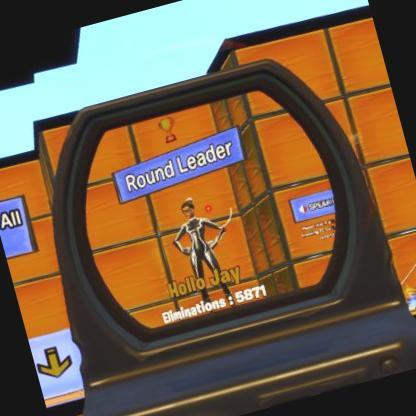person: (172, 202, 232, 304)
